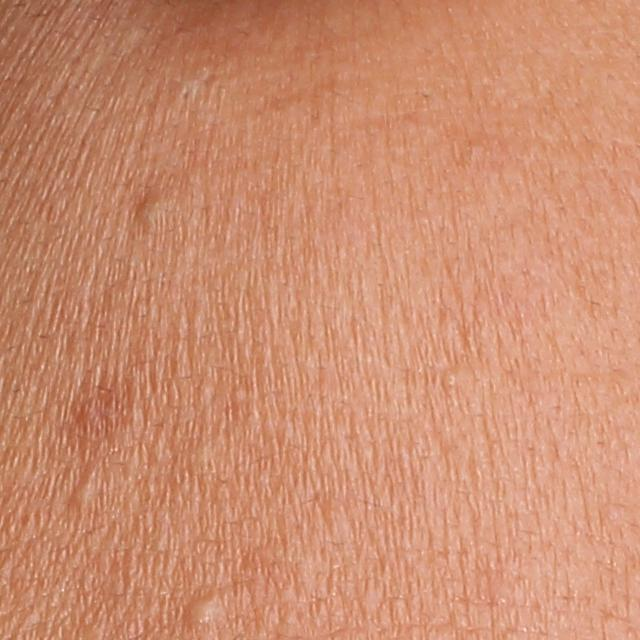comedo: (124, 185, 175, 233), (178, 593, 236, 631), (64, 478, 102, 511), (443, 371, 458, 391)
